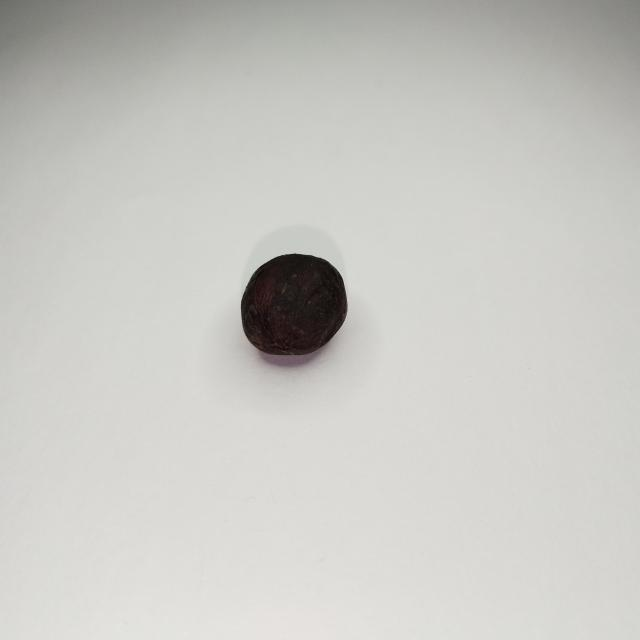Danado: (240, 254, 350, 362)
